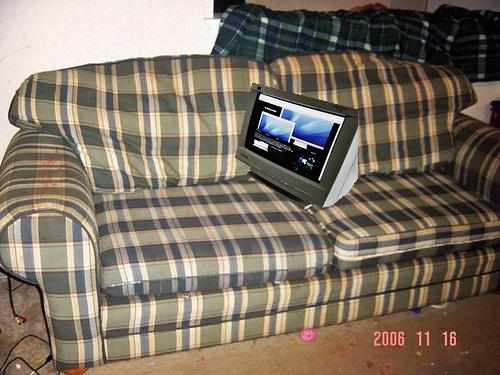tampered: (236, 84, 358, 209)
